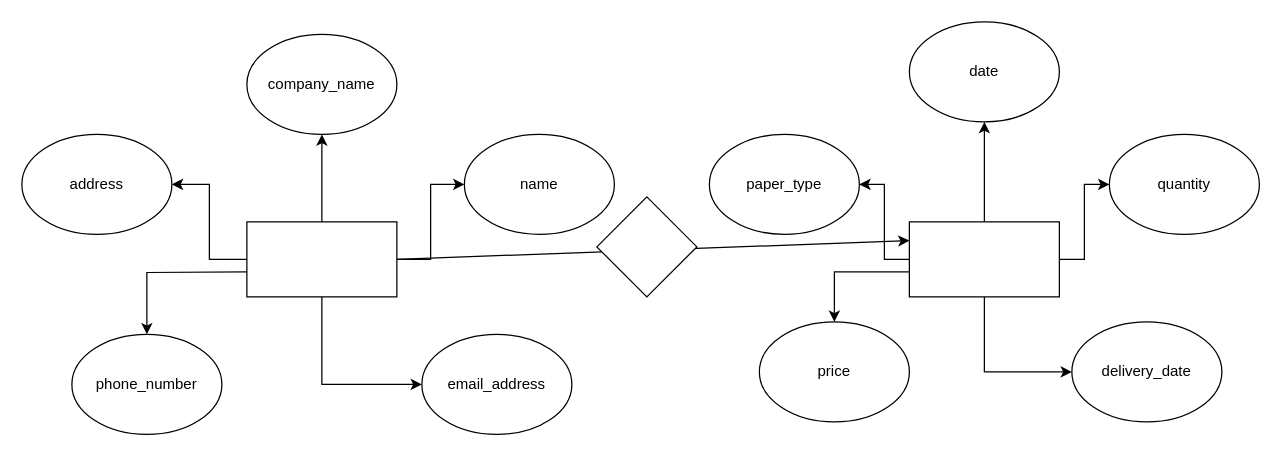
The diagram is 1281 pixels wide and 456 high, and some of its shapes have lost their labels. Here are the shapes that lost their labels. From the top down, the box of each, then its label:
(246, 221, 397, 297): client
(596, 196, 697, 297): have
(908, 221, 1059, 297): orders
